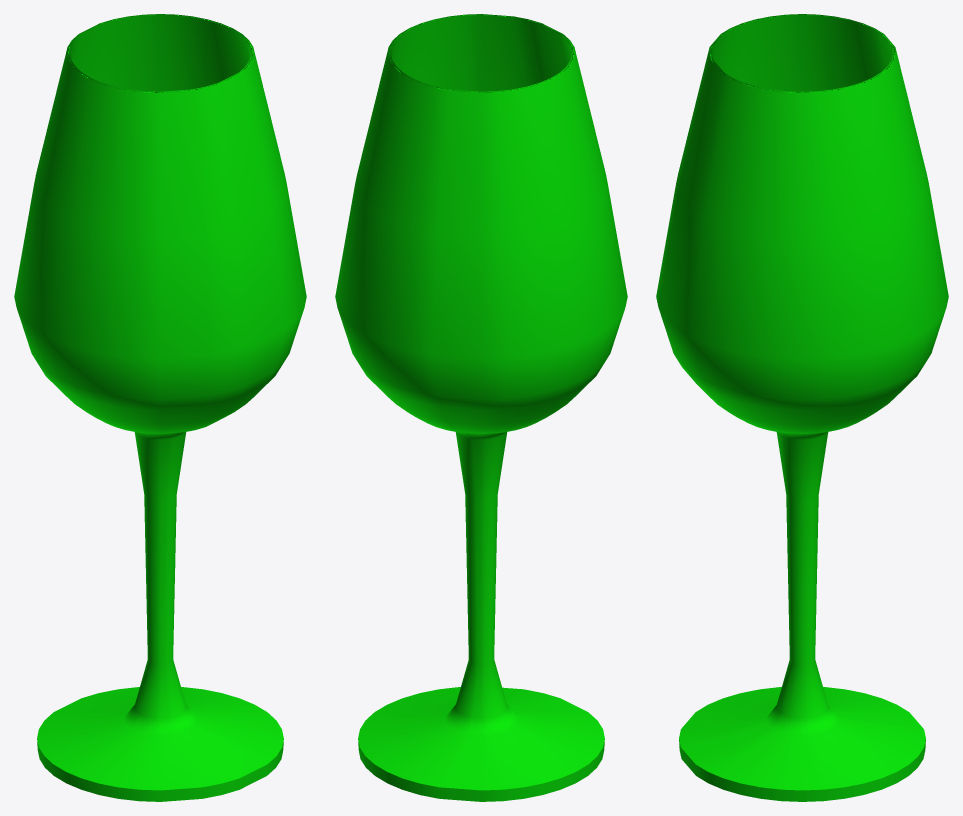
Rendered from Glass2_LOD_1.fbx.
The picture shows the model from 3 angles, left to right: view 1: azimuth 30°, elevation 25°; view 2: azimuth 150°, elevation 25°; view 3: azimuth 270°, elevation 25°; orthographic projection.
Parts seen in each view (by area): view 1: Glass2_LOD_2; view 2: Glass2_LOD_2; view 3: Glass2_LOD_2.
Boxes of the visible parts, left/top/right/bottom form: Glass2_LOD_2: left=14, top=14, right=306, bottom=801; Glass2_LOD_2: left=335, top=14, right=627, bottom=801; Glass2_LOD_2: left=656, top=14, right=948, bottom=801.
Bounding box in the file's own units: 6.93 × 18.23 × 6.93.
